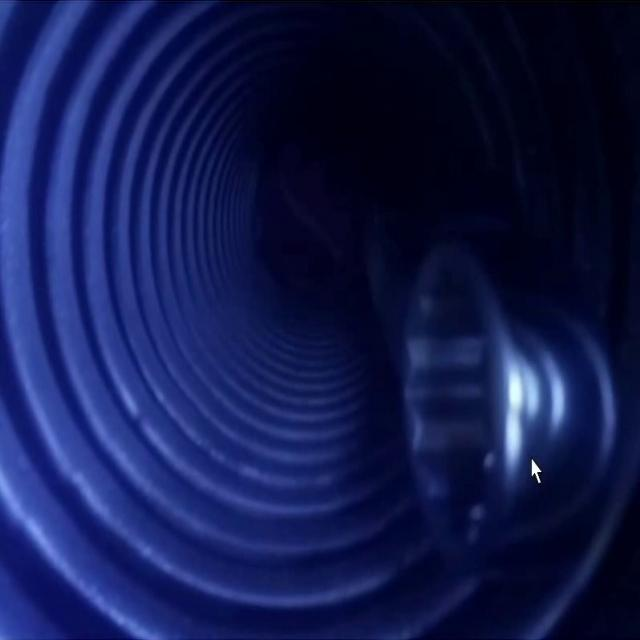metal piece: (404, 244, 622, 554)
